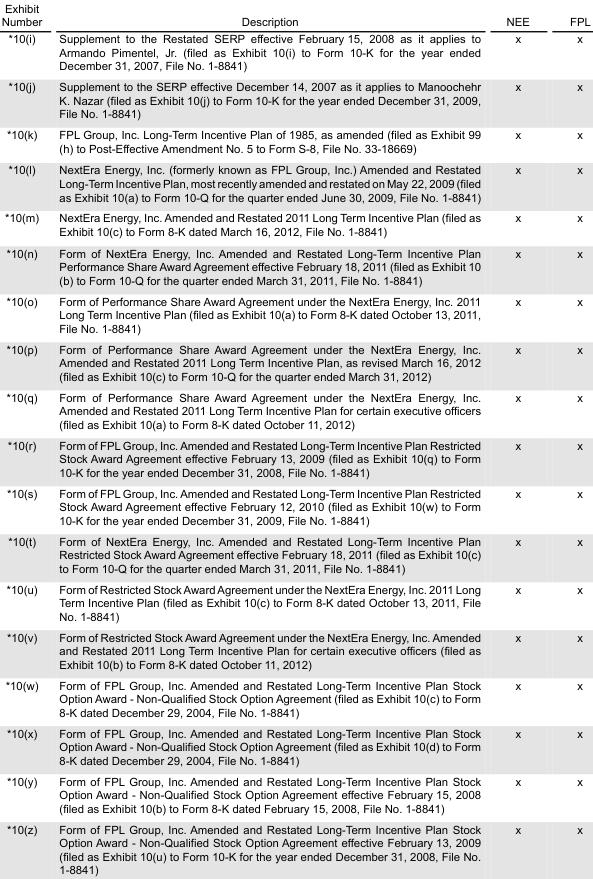table: (0, 1, 589, 875)
table column: (49, 1, 492, 875), (492, 1, 548, 875), (0, 1, 49, 875), (548, 1, 589, 875)
table column header: (0, 1, 589, 29)
table row: (0, 818, 589, 875), (0, 158, 589, 207), (0, 75, 589, 123), (0, 242, 589, 290), (0, 290, 589, 338), (0, 338, 589, 386), (0, 386, 589, 434), (0, 434, 589, 482), (0, 482, 589, 530), (0, 530, 589, 578), (0, 578, 589, 626), (0, 626, 589, 674), (0, 674, 589, 722), (0, 722, 589, 770), (0, 770, 589, 818), (0, 29, 589, 75), (0, 123, 589, 158), (0, 207, 589, 242), (0, 1, 589, 29)
